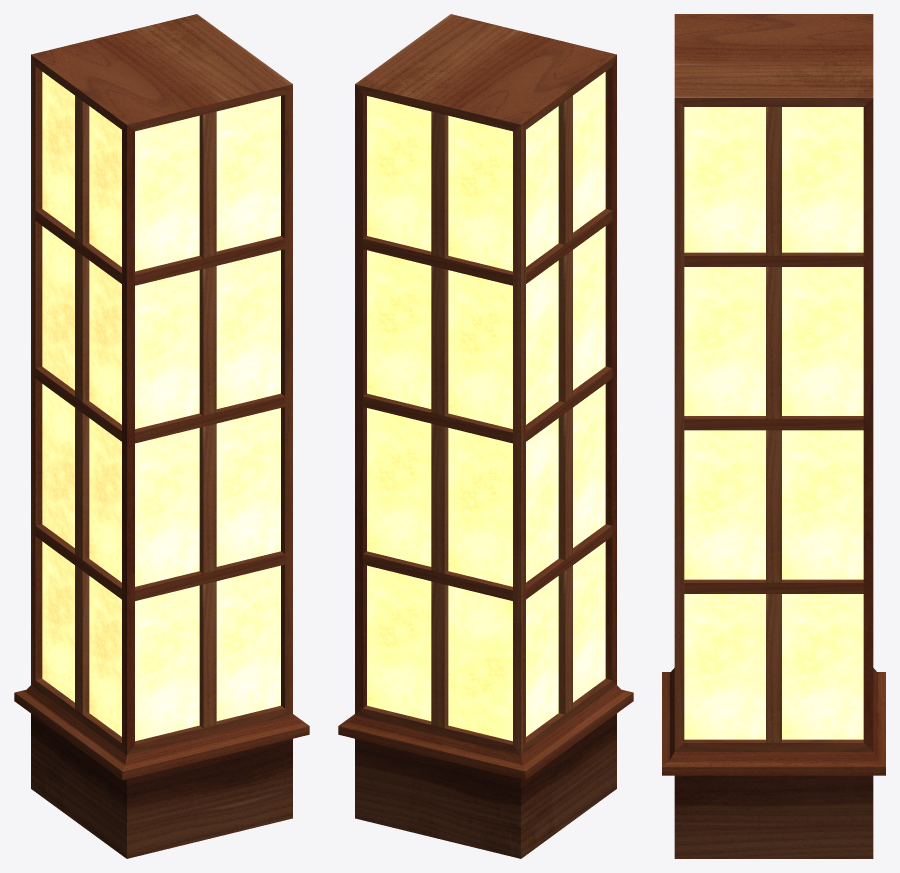
The model's file is japanese_lamp.glb.
3 renders of one model, left to right at view 1: azimuth 30°, elevation 25°; view 2: azimuth 150°, elevation 25°; view 3: azimuth 270°, elevation 25°, orthographic. The views are drawn at different scales.
Parts seen in each view (by area): view 1: Cube; view 2: Cube; view 3: Cube.
Boxes of the visible parts, box(x1,y1,x2,y2) form: Cube: box(14, 14, 309, 858); Cube: box(338, 14, 633, 858); Cube: box(662, 14, 885, 858).
Size of the model in its own units: 22.79 by 85.47 by 22.79.
1 material, 1 textured.
